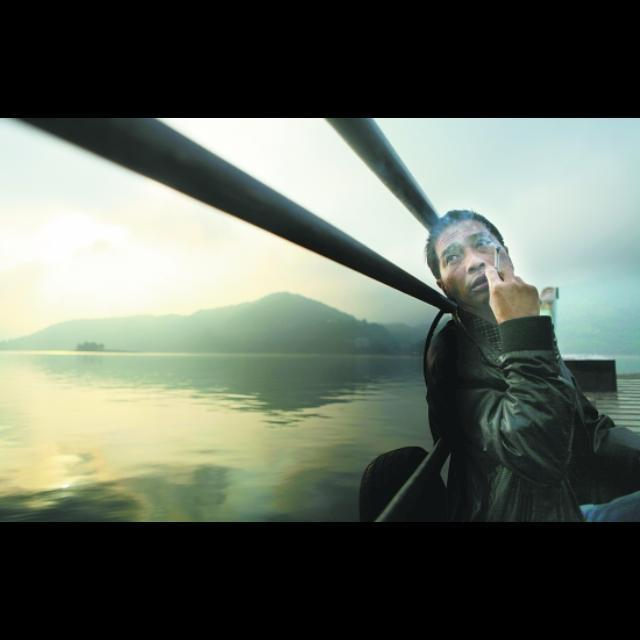rokok: (492, 245, 502, 268)
